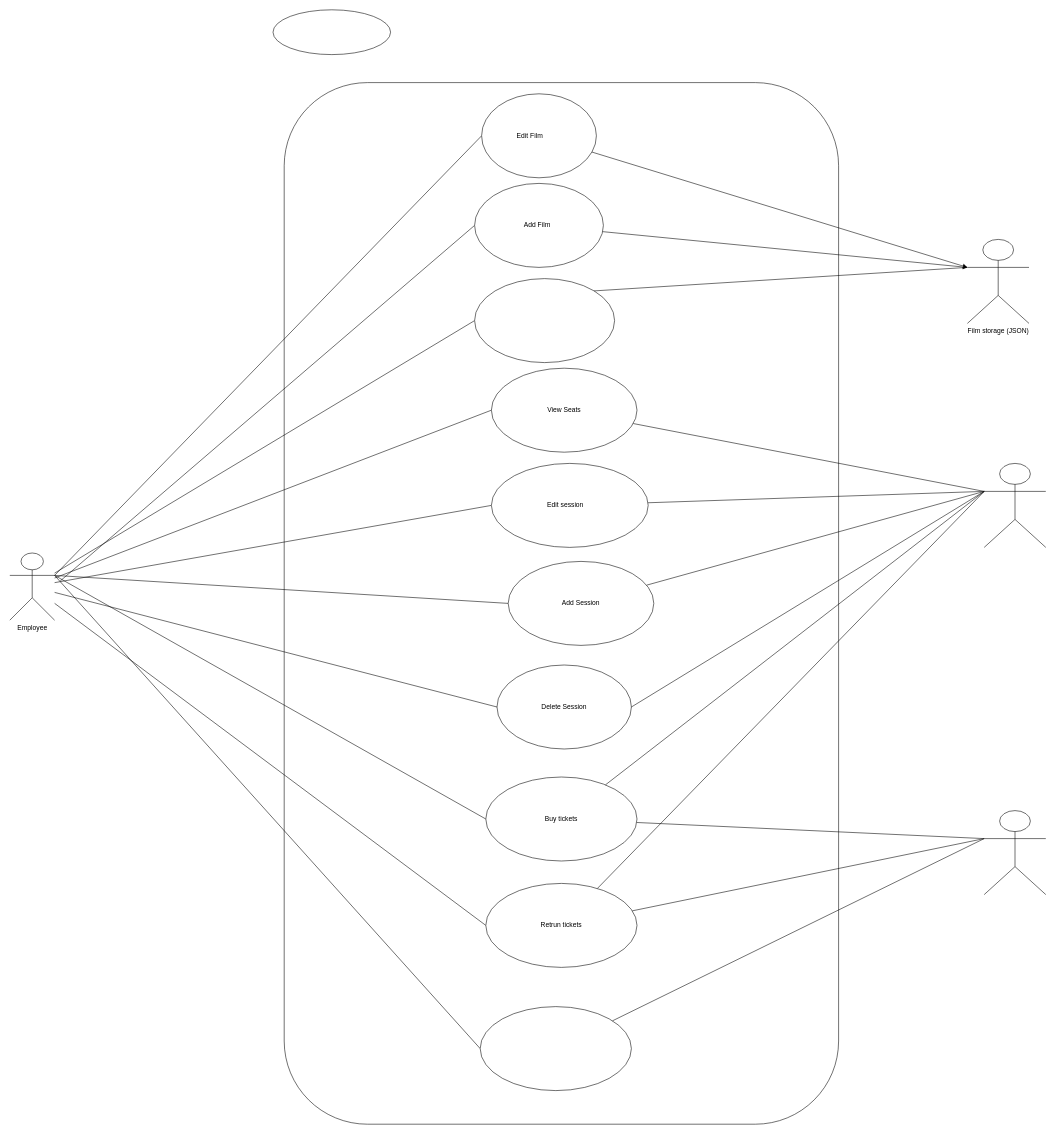
The diagram is 1061 pixels wide and 1134 high, and some of its shapes have lost their labels. Each missing label, with the centre of its shape:
Delete Film: [544,320]
Input information for Search: [331,32]
Mark ticket as visited: [555,1048]
Session storage (JSON): [1015,505]
Tickets storage (JSON): [1015,852]
